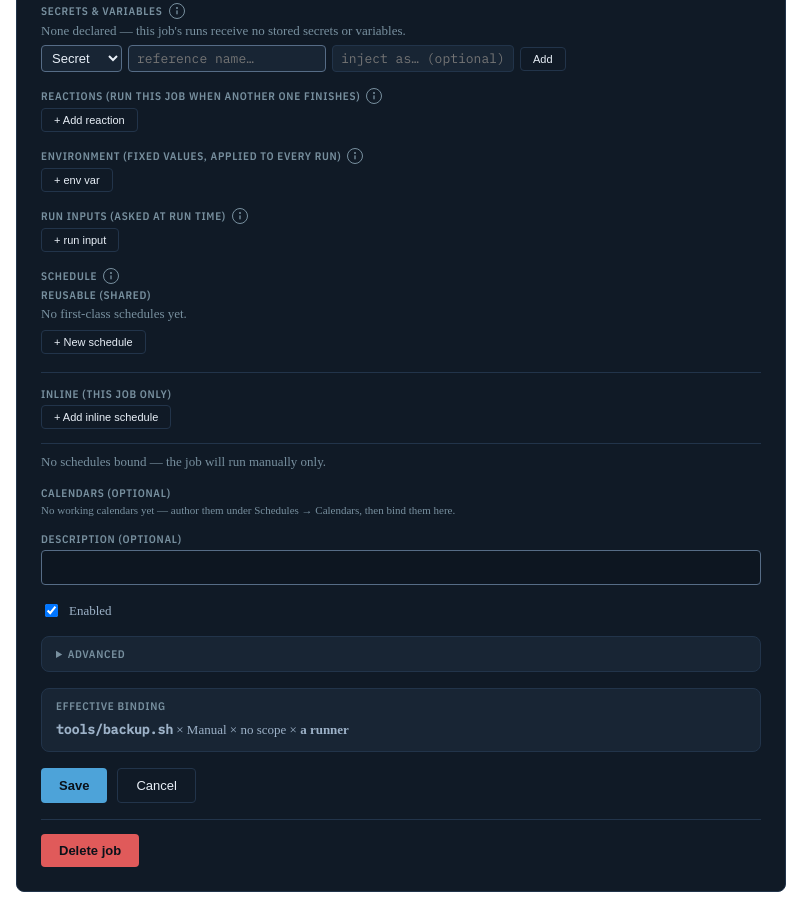
it: JobComposer — scope is a required choice (AF-1) › shows a job with no scope from before as such, and saves it only with a scope
(page scrolled)
Click the button "Save": (74, 786) [41,768,107,803]
(page scrolled)
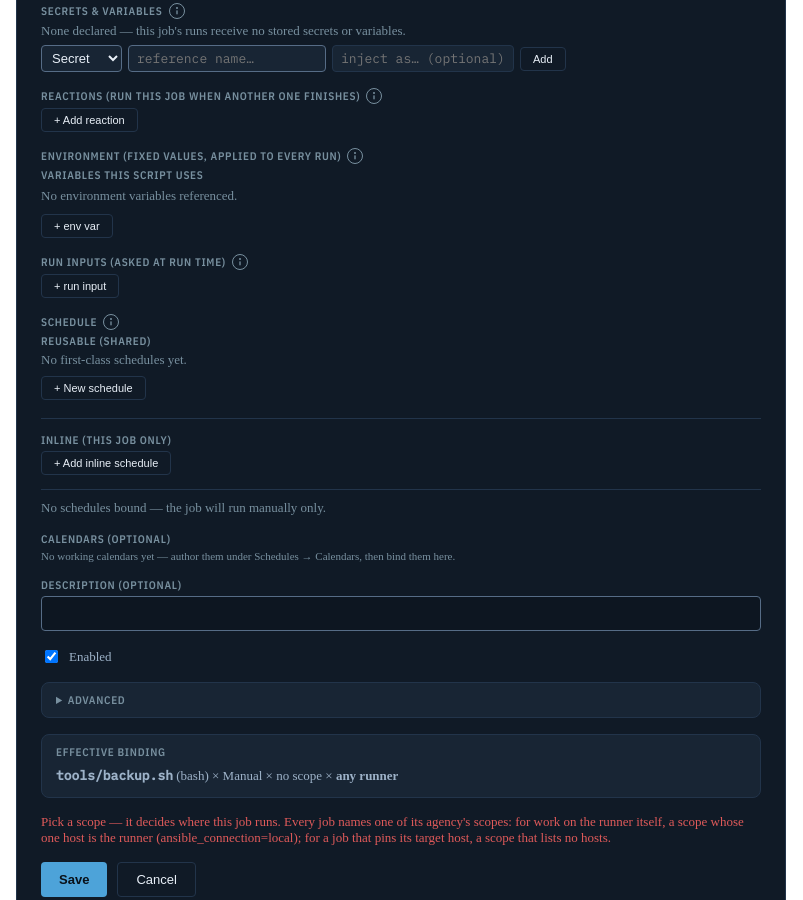
Result: the text "Pick a scope" is shown at [41,814,744,845]
